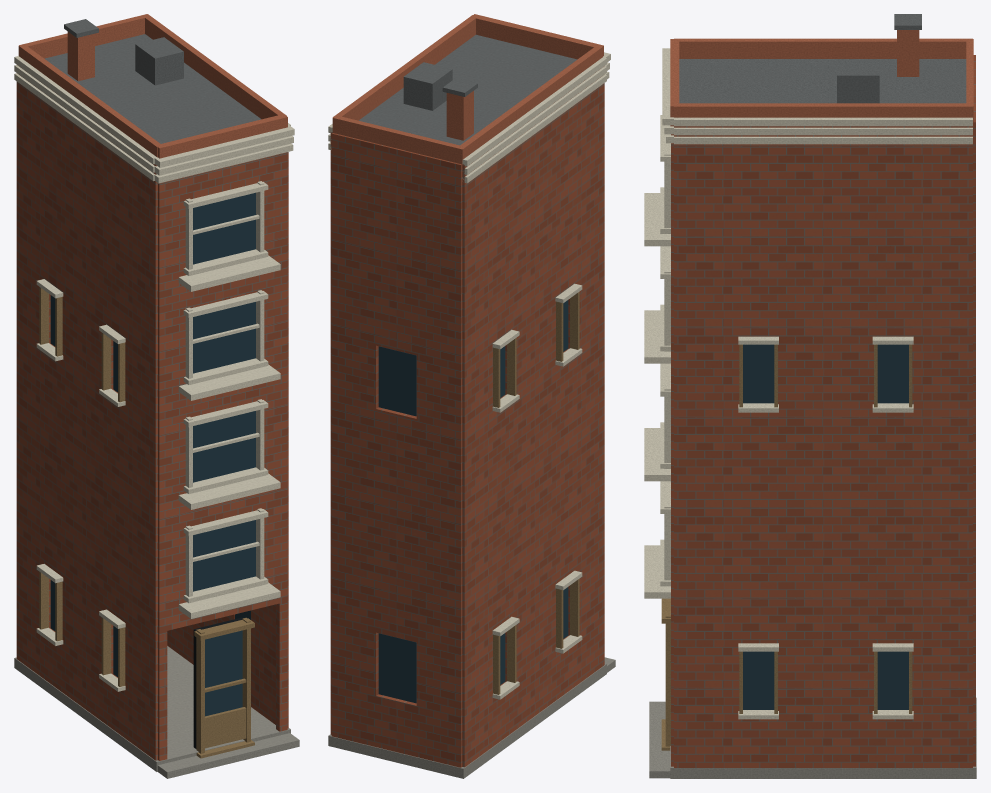
File: OFFC22_lod2.glb
3 renders of one model, left to right at view 1: azimuth 30°, elevation 25°; view 2: azimuth 150°, elevation 25°; view 3: azimuth 270°, elevation 25°, orthographic. The views are drawn at different scales.
Parts seen in each view (by area): view 1: OFFC22_LOD2; view 2: OFFC22_LOD2; view 3: OFFC22_LOD2.
Part boxes in pixels (bbox=[...]): OFFC22_LOD2: bbox=[14, 14, 299, 778]; OFFC22_LOD2: bbox=[328, 14, 615, 778]; OFFC22_LOD2: bbox=[644, 14, 976, 778].
Size of the model in its own units: 3.71 by 15.65 by 6.67.
8 materials, 6 textured.
